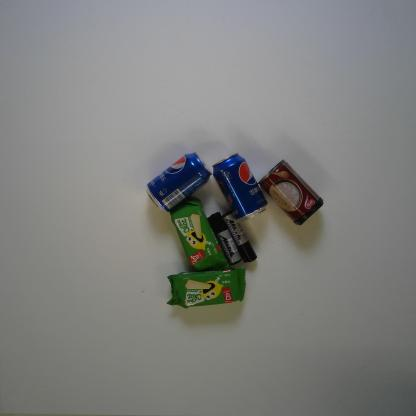Canned Food: (257, 158, 324, 226)
Dessert: (169, 196, 231, 273), (165, 266, 246, 310)
Drink: (144, 151, 213, 213), (212, 151, 268, 223)
Stationery: (220, 210, 258, 263), (206, 211, 242, 266)
